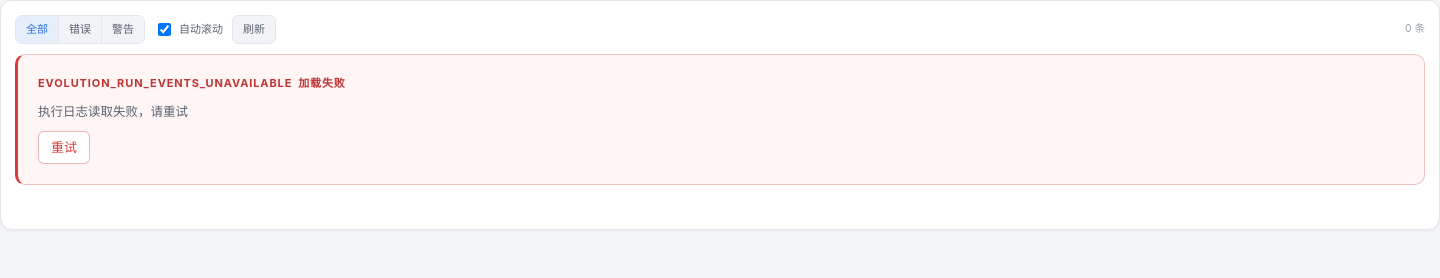
Test: RunLogPanel › shows explicit empty and retryable error states
Click the button "重试". click: click(64, 148)
box: [38,132,90,164]
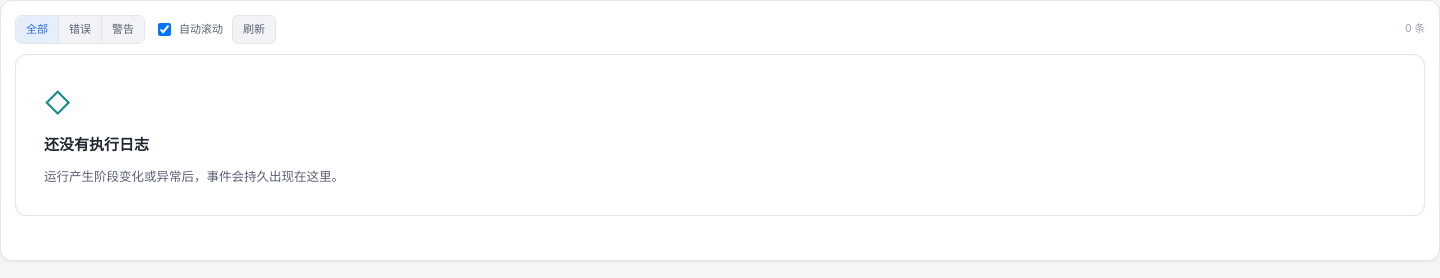
Expected: the text "还没有执行日志" is shown, [44,133,149,157]
Expected: the text "事件会持久出现在这里" is shown, [44,169,344,184]
